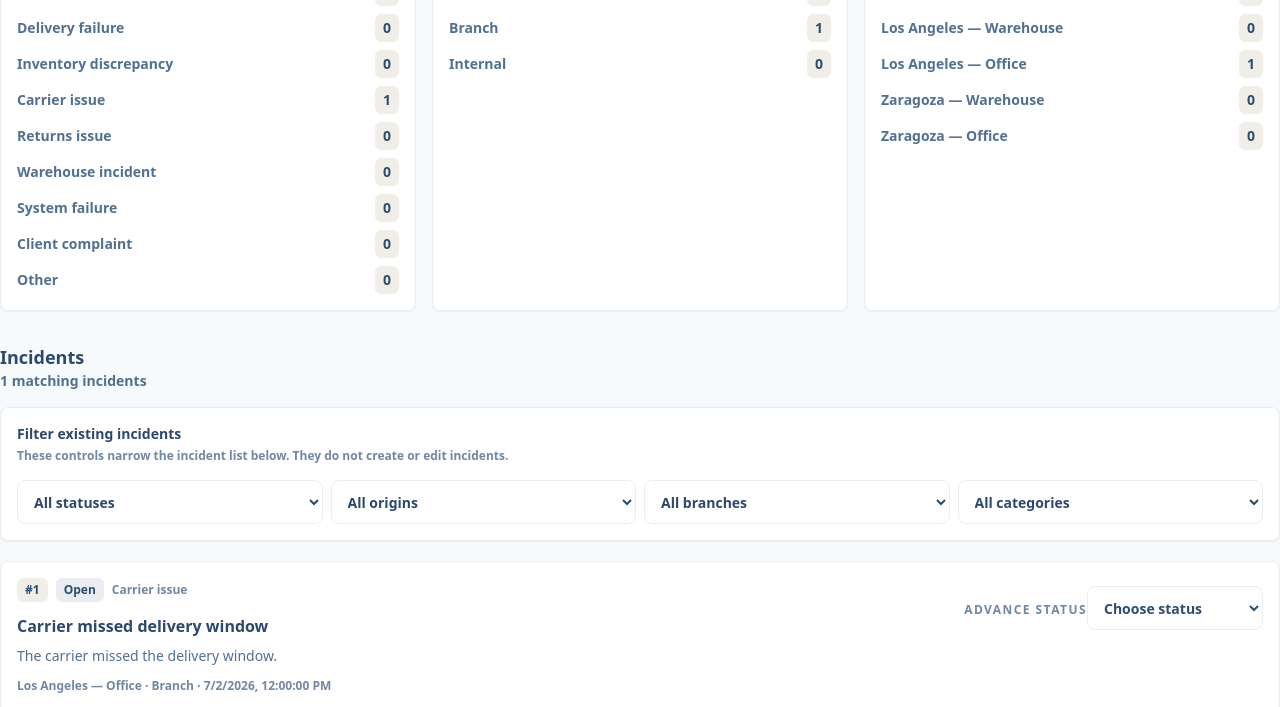
Test: incident manager › rolls an optimistic status update back when the API fails
The width and height of the screenshot is (1280, 707).
(page scrolled)
Expected: the heading "Carrier missed delivery window" is shown, [17, 615, 268, 637]
Select "In progress" in the dropdown labelled "Advance status": (1175, 608) [1087, 586, 1263, 630]
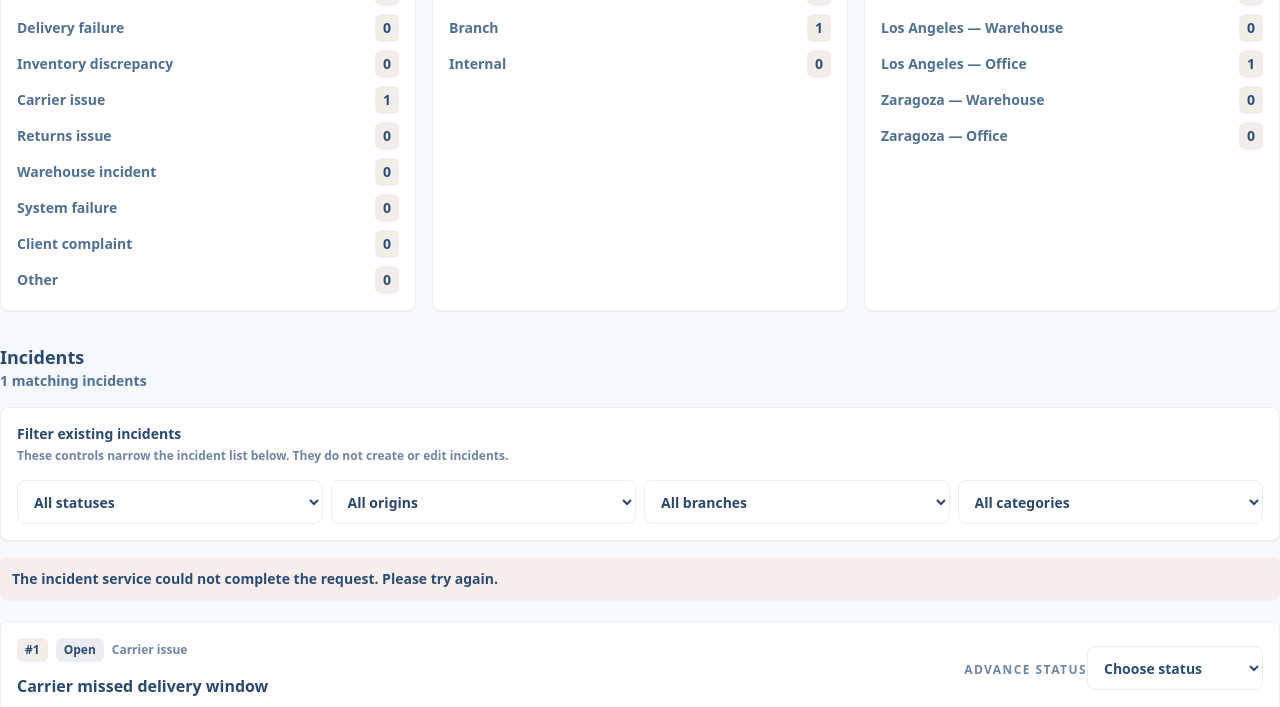
Now the text "The incident service could not complete the request. Please try again." is shown, box [0, 557, 1279, 601]
